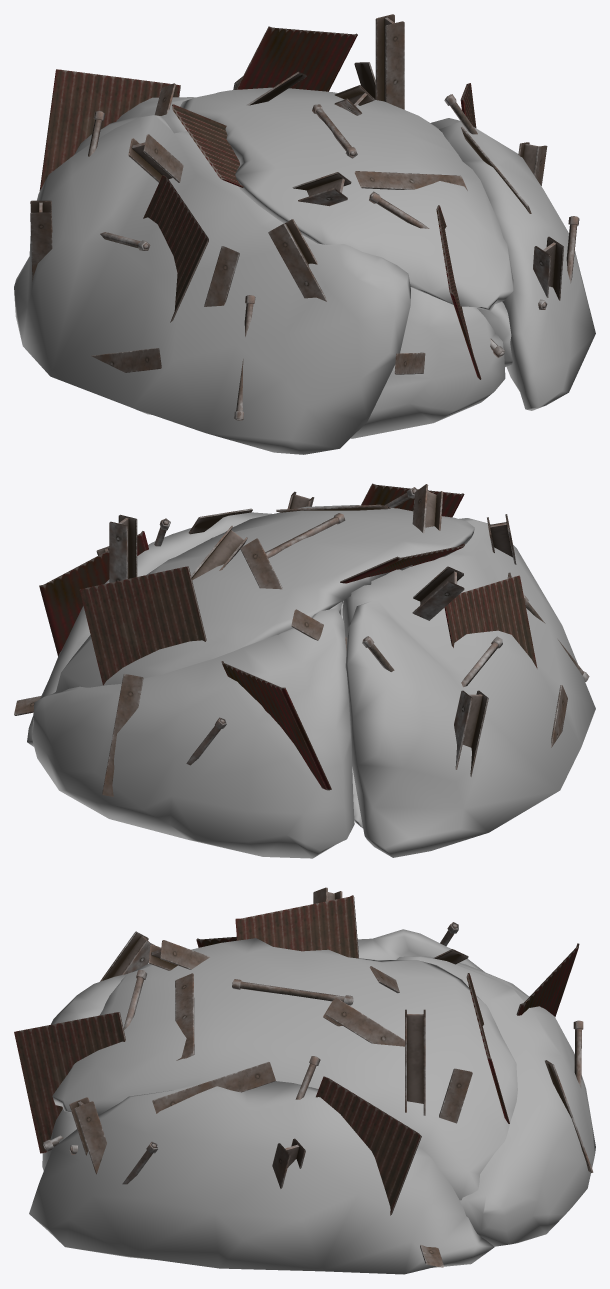
Rendered from sm_scrap_pile_large_01.fbx.
3 views of the same model, one above another, from view 1: azimuth 30°, elevation 25°; view 2: azimuth 150°, elevation 25°; view 3: azimuth 270°, elevation 25° (orthographic). The views are drawn at different scales.
Parts seen in each view (by area): view 1: Scrap_Pile_Large_Piece_01, Scrap_Pile_Large_Piece_05, Scrap_Pile_Large_Piece_03, Scrap_Pile_Large_Piece_02, Scrap_Pile_Large_Piece_04; view 2: Scrap_Pile_Large_Piece_01, Scrap_Pile_Large_Piece_04, Scrap_Pile_Large_Piece_05, Scrap_Pile_Large_Piece_03; view 3: Scrap_Pile_Large_Piece_05, Scrap_Pile_Large_Piece_03, Scrap_Pile_Large_Piece_04, Scrap_Pile_Large_Piece_01, Scrap_Pile_Large_Piece_02.
Part boxes in pixels (bbox=[...]): Scrap_Pile_Large_Piece_01: bbox=[14, 111, 410, 454]; Scrap_Pile_Large_Piece_05: bbox=[172, 14, 513, 379]; Scrap_Pile_Large_Piece_03: bbox=[430, 83, 595, 410]; Scrap_Pile_Large_Piece_02: bbox=[350, 287, 505, 438]; Scrap_Pile_Large_Piece_04: bbox=[39, 69, 512, 366]; Scrap_Pile_Large_Piece_01: bbox=[342, 514, 595, 857]; Scrap_Pile_Large_Piece_04: bbox=[32, 601, 354, 858]; Scrap_Pile_Large_Piece_05: bbox=[55, 483, 474, 693]; Scrap_Pile_Large_Piece_03: bbox=[14, 491, 314, 746]; Scrap_Pile_Large_Piece_05: bbox=[14, 895, 517, 1200]; Scrap_Pile_Large_Piece_03: bbox=[29, 1056, 494, 1274]; Scrap_Pile_Large_Piece_04: bbox=[396, 943, 595, 1246]; Scrap_Pile_Large_Piece_01: bbox=[51, 887, 484, 1024]; Scrap_Pile_Large_Piece_02: bbox=[42, 1108, 76, 1170].
Bounding box in the file's own units: 901 × 425 × 932.
2 materials, 1 textured.
